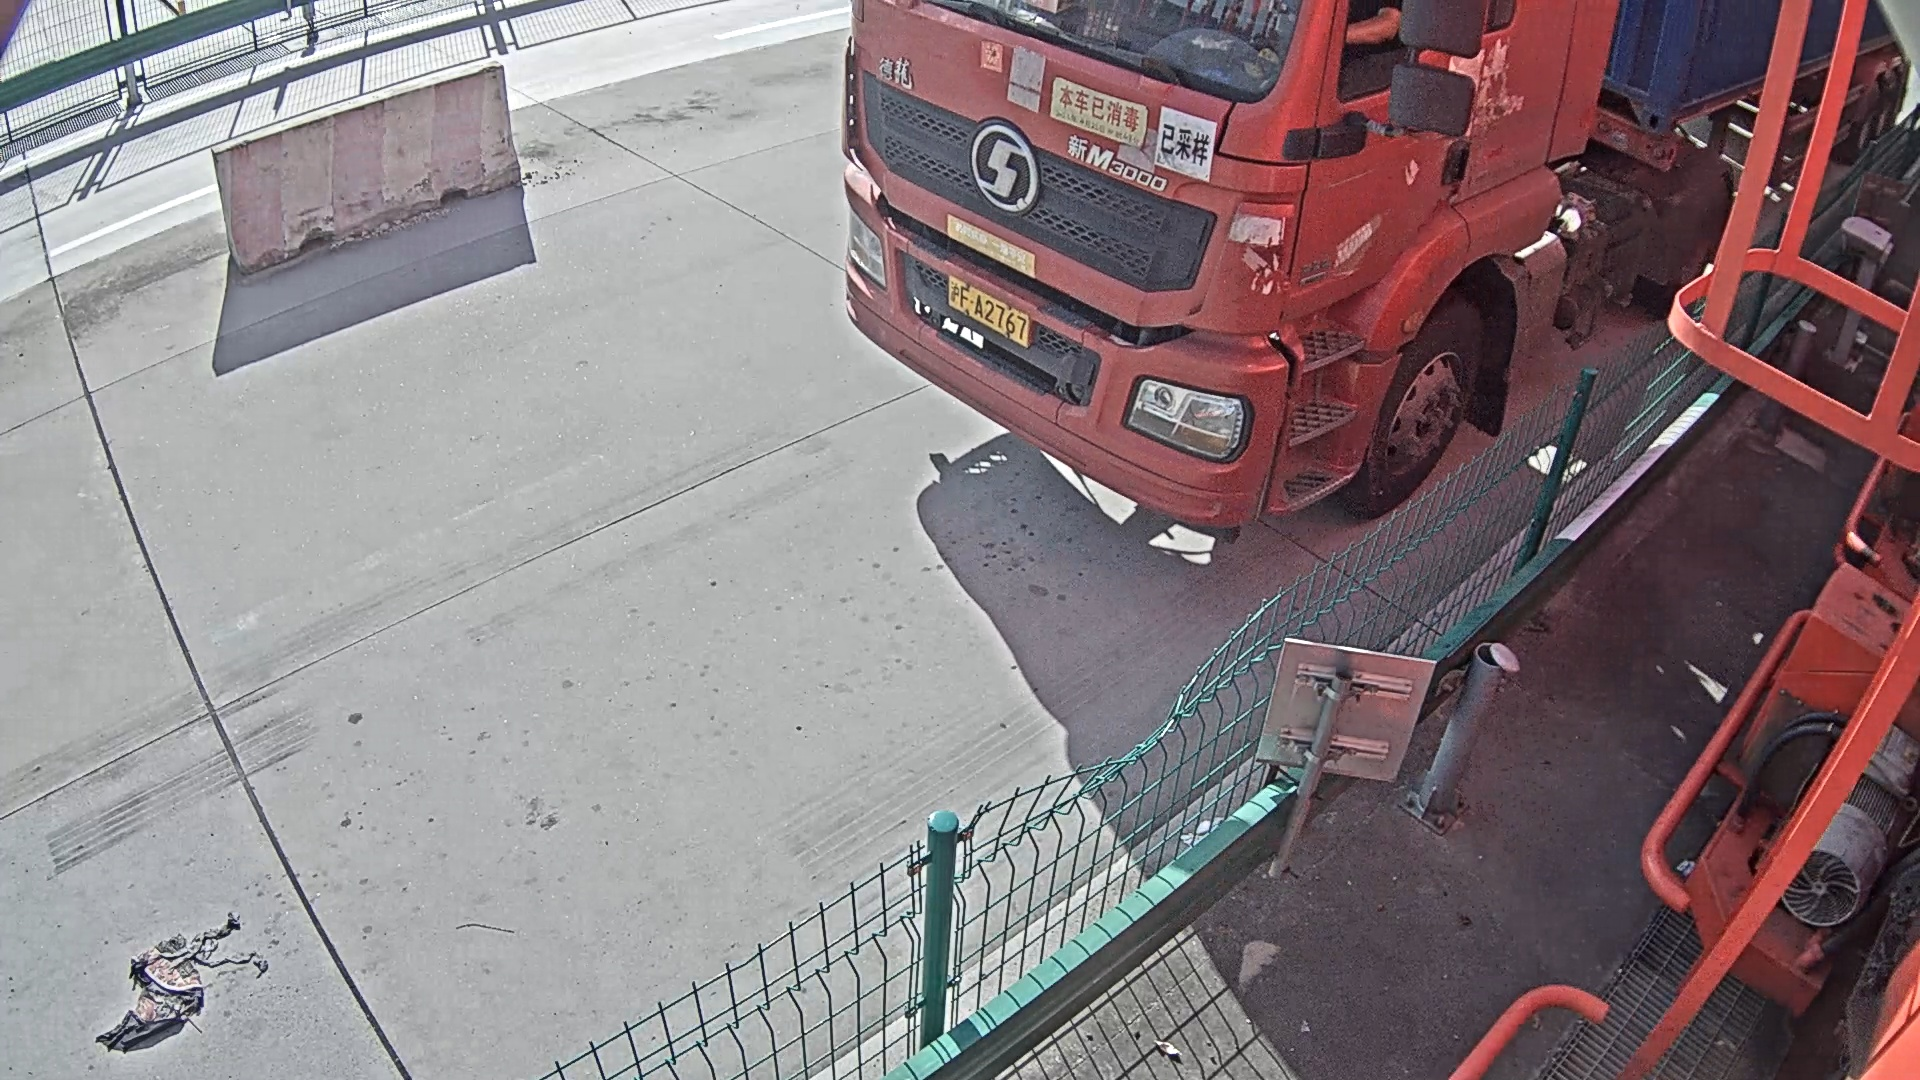head: (839, 2, 1615, 532)
plate: (940, 276, 1032, 349)
